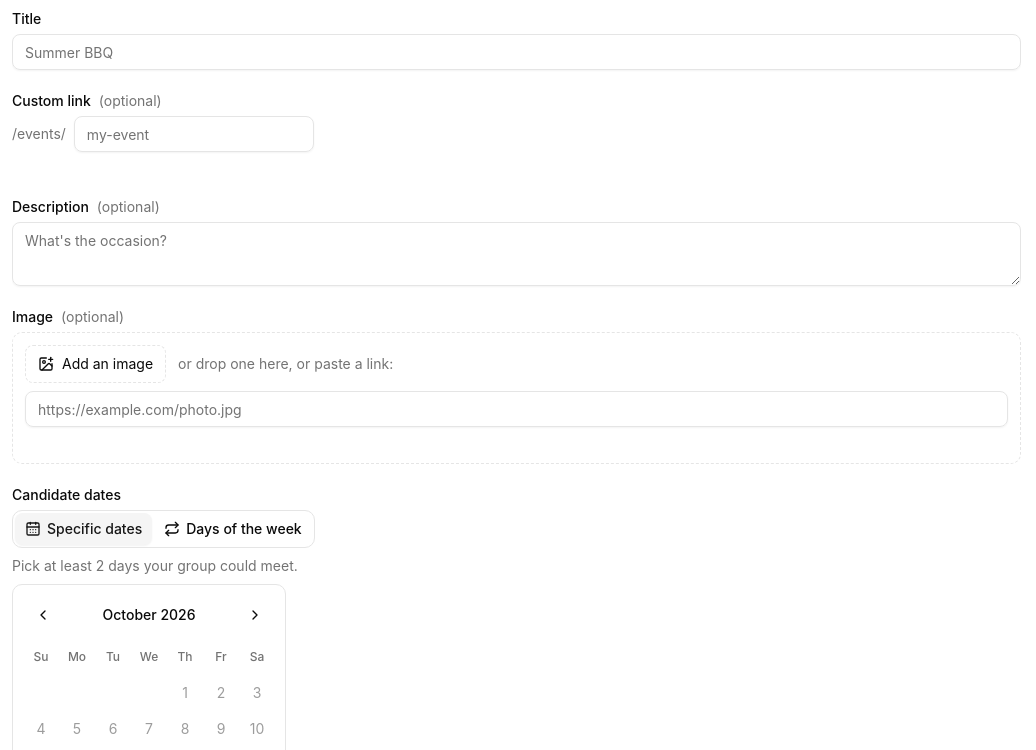
EventForm slug availability › shows available feedback on blur
The image size is (1036, 750).
Type "summer-bbq" into the field labelled "Custom link (optional)" at (194, 134), box left=74, top=116, right=314, bottom=152
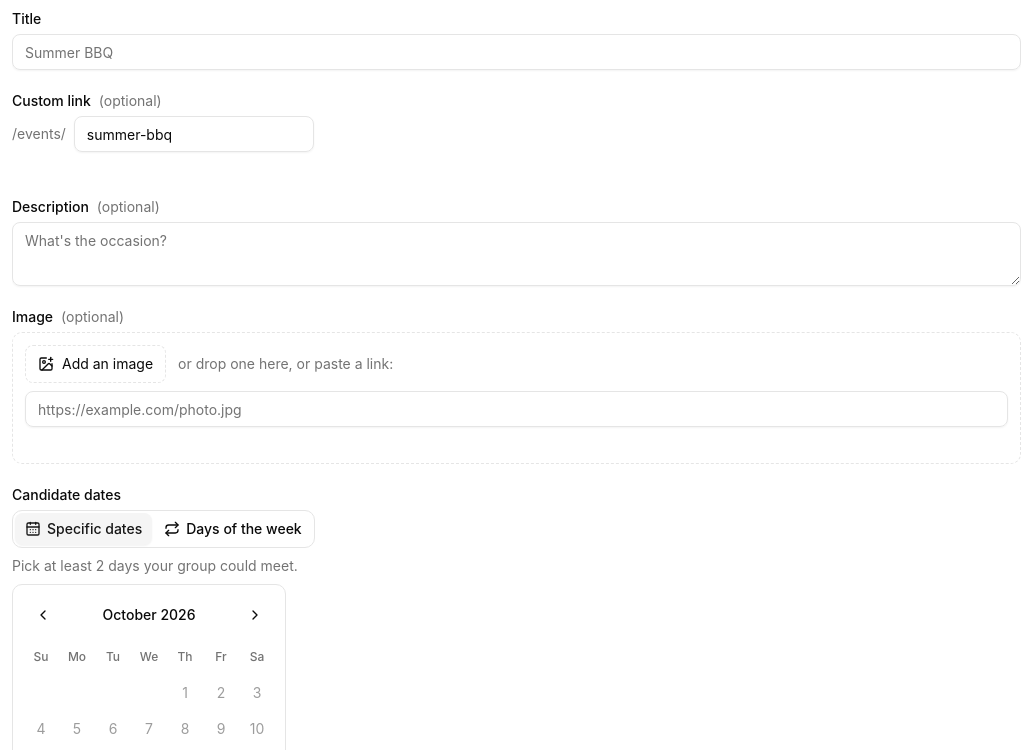
Leave the field labelled "Custom link (optional)", box left=74, top=116, right=314, bottom=152
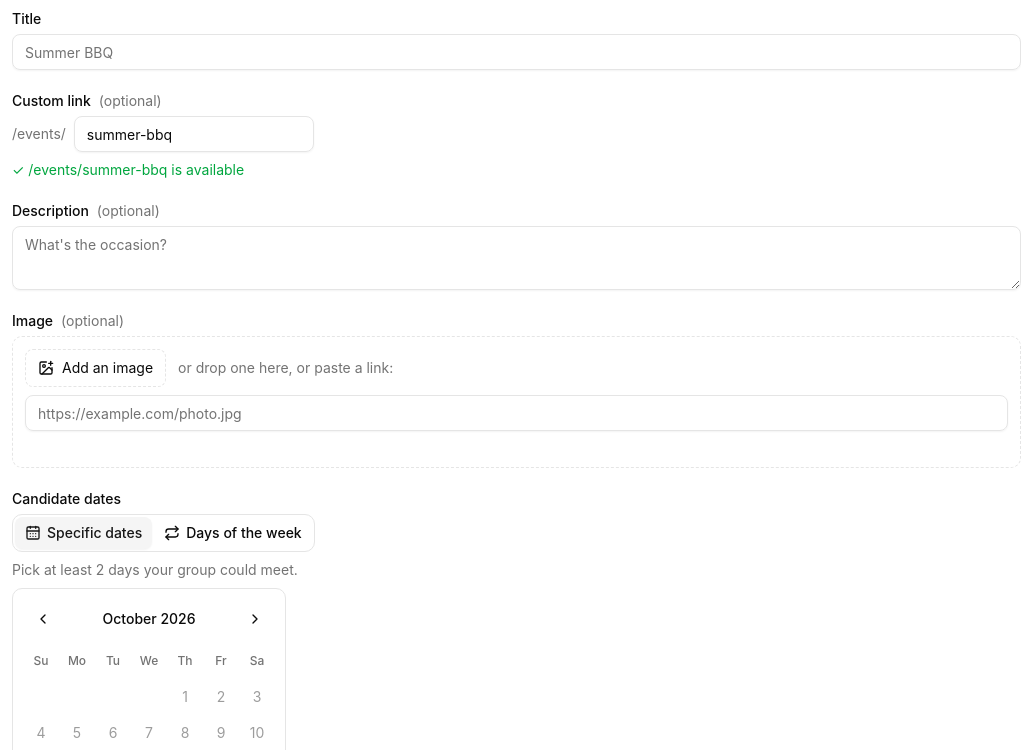
Expected: the text "✓ /events/summer-bbq is available" is shown, left=12, top=161, right=244, bottom=178
